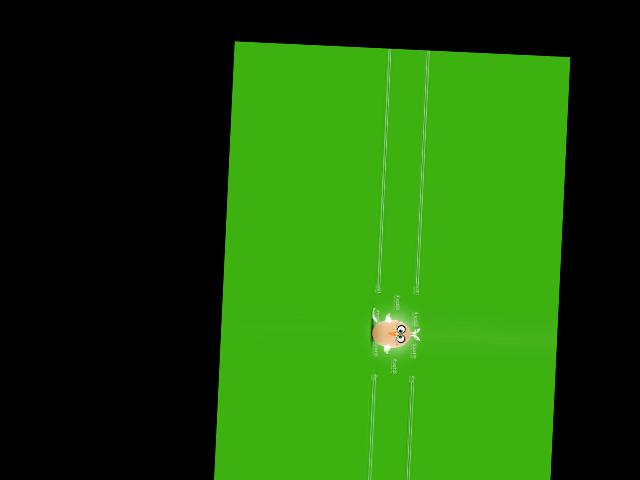egg: (370, 318, 411, 348)
